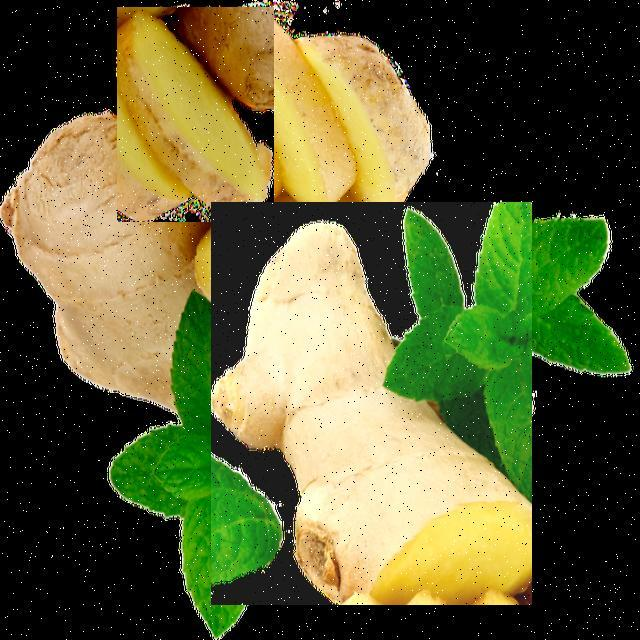ginger: (211, 202, 532, 605), (117, 7, 274, 222)
